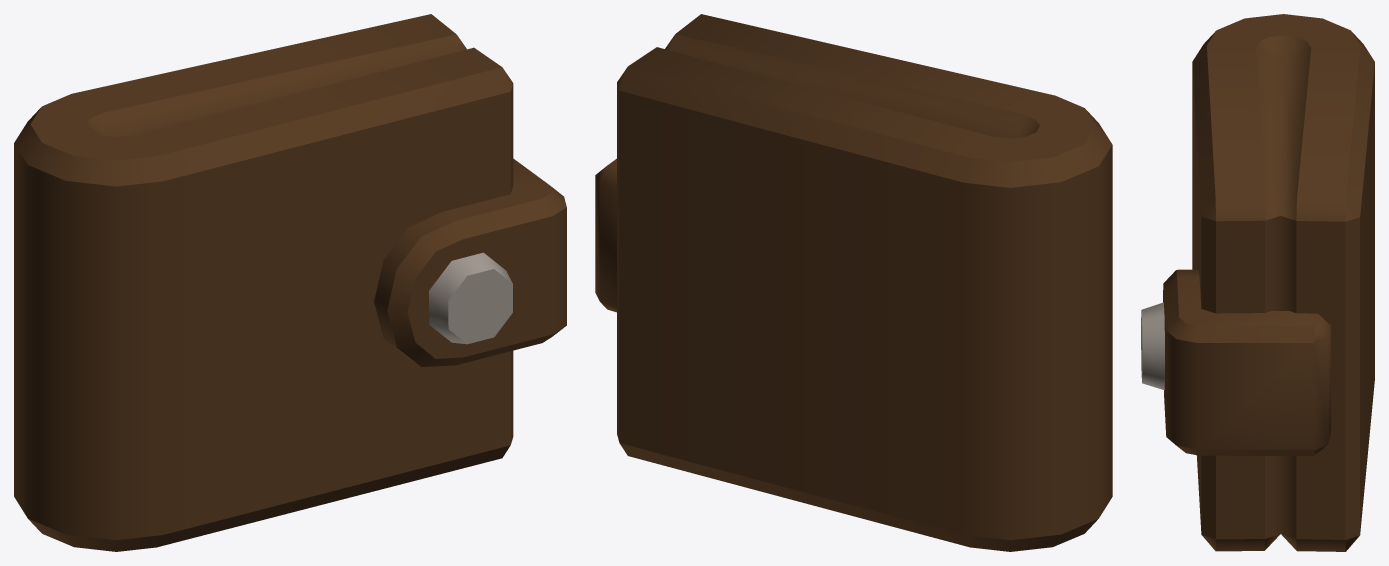
Rendered from money_wallet_01.fbx.
3 views of the same model, side by side, from view 1: azimuth 30°, elevation 25°; view 2: azimuth 150°, elevation 25°; view 3: azimuth 270°, elevation 25° (orthographic). The views are drawn at different scales.
Visible parts, largest first — view 1: money_wallet_01; view 2: money_wallet_01; view 3: money_wallet_01.
Boxes of the visible parts, x1,y1,x2,y2 form: money_wallet_01: (14,14,566,551); money_wallet_01: (595,14,1112,551); money_wallet_01: (1141,14,1374,551).
Bounding box in the file's own units: 47.82 × 36.58 × 22.03.
